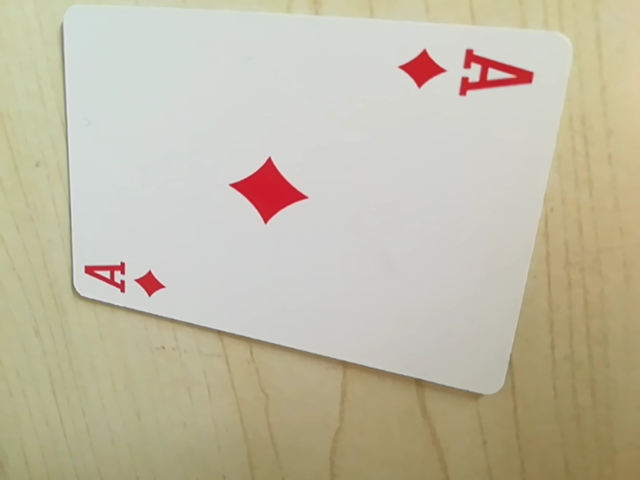fk a: (399, 40, 538, 102), (76, 252, 176, 305)
